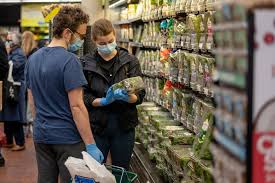Bad: (25, 7, 147, 163)
